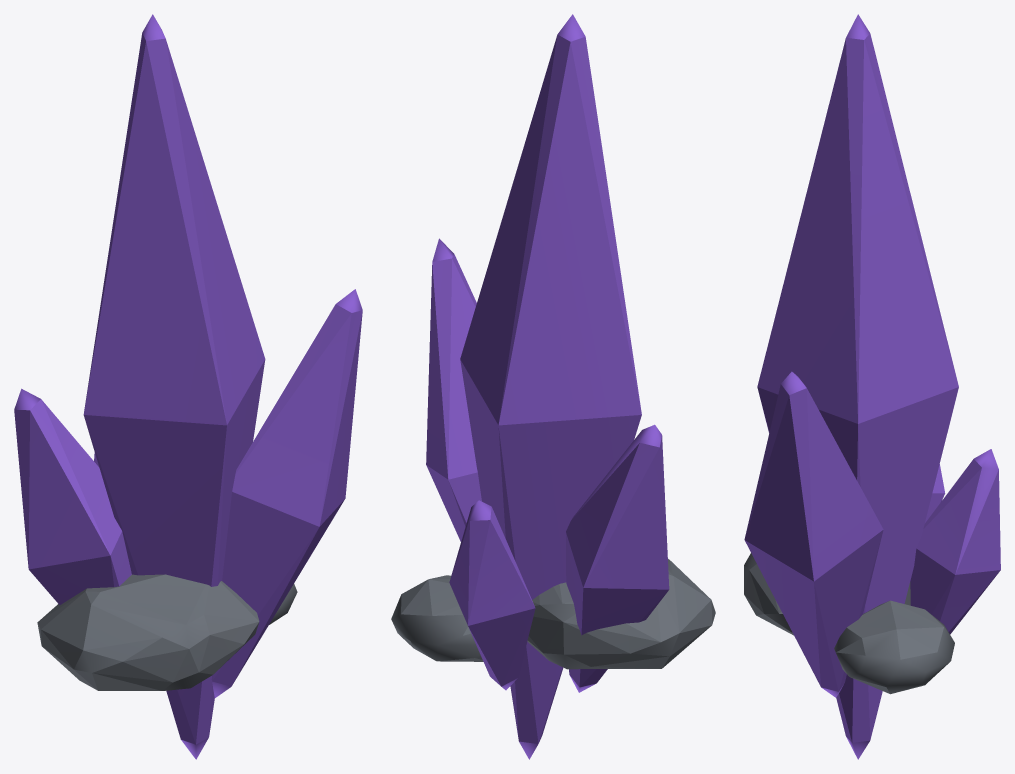
The model's file is prop_crystalA_lod1.glb.
3 renders of one model, left to right at view 1: azimuth 30°, elevation 25°; view 2: azimuth 150°, elevation 25°; view 3: azimuth 270°, elevation 25°, orthographic. The views are drawn at different scales.
Parts seen in each view (by area): view 1: prop_crystalA_lod1; view 2: prop_crystalA_lod1; view 3: prop_crystalA_lod1.
Part boxes in pixels (box(x1,y1,x2,y2)): prop_crystalA_lod1: box(14, 14, 362, 759); prop_crystalA_lod1: box(391, 14, 715, 759); prop_crystalA_lod1: box(744, 14, 1000, 759).
Bounding box in the file's own units: 0.7199 × 1.81 × 0.5819.
